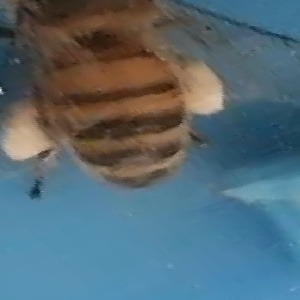bee: (3, 1, 237, 209)
